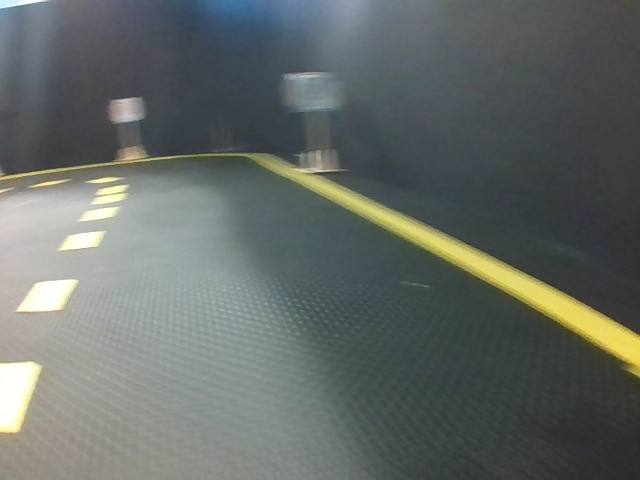no30: (300, 74, 334, 113)
